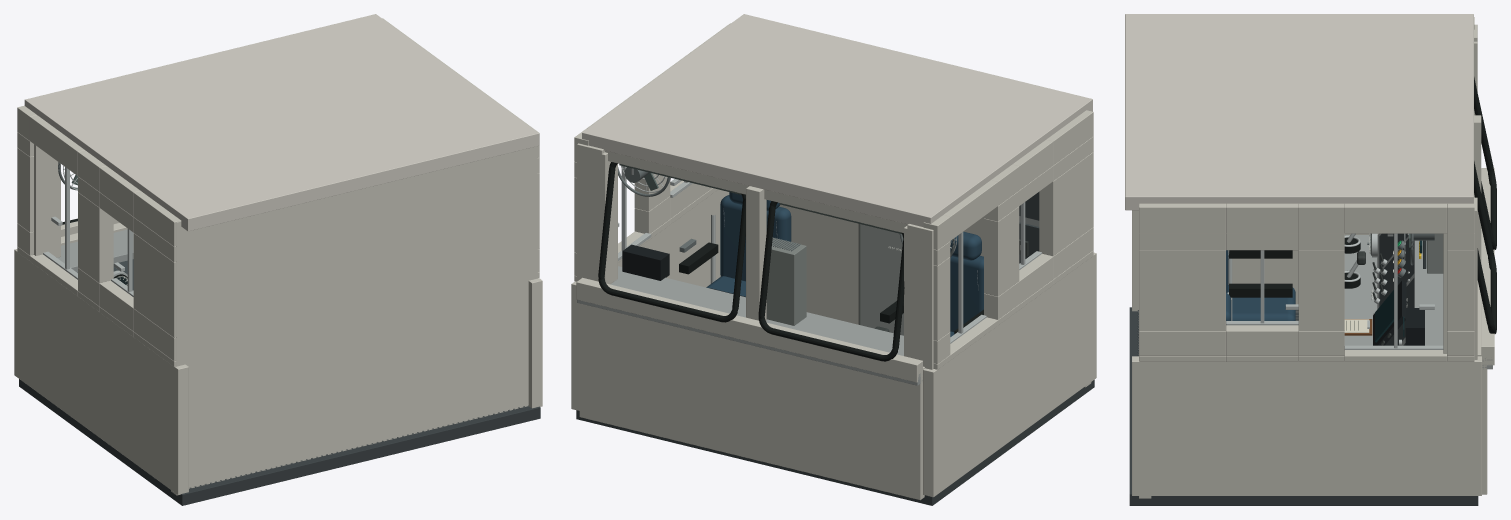
Rendered from wap7_cab.glb.
3 views of the same model, side by side, from view 1: azimuth 30°, elevation 25°; view 2: azimuth 150°, elevation 25°; view 3: azimuth 270°, elevation 25° (orthographic). The views are drawn at different scales.
Visible parts, largest first — view 1: Cab_lining_floor_and_bulkhead; view 2: Cab_lining_floor_and_bulkhead, Wraparound_driving_desk, Seats_pedals_fans_and_cab_equipment, Seat_1.0_Backrest, Seat_-0.68_Backrest, Driver_display_and_switchgear, Seat_-0.68_Headrest; view 3: Cab_lining_floor_and_bulkhead, Wraparound_driving_desk, Driver_display_and_switchgear, Seats_pedals_fans_and_cab_equipment, Seat_-0.68_Cushion.
Part boxes in pixels (x1,y1,x2,y2): Cab_lining_floor_and_bulkhead: [14, 14, 542, 505]; Cab_lining_floor_and_bulkhead: [571, 14, 1096, 505]; Wraparound_driving_desk: [766, 237, 806, 325]; Seats_pedals_fans_and_cab_equipment: [618, 165, 1039, 334]; Seat_1.0_Backrest: [720, 195, 791, 281]; Seat_-0.68_Backrest: [950, 255, 983, 331]; Driver_display_and_switchgear: [622, 244, 745, 297]; Seat_-0.68_Headrest: [950, 231, 981, 260]; Cab_lining_floor_and_bulkhead: [1125, 14, 1496, 505]; Wraparound_driving_desk: [1344, 233, 1443, 345]; Driver_display_and_switchgear: [1344, 240, 1424, 345]; Seats_pedals_fans_and_cab_equipment: [1227, 233, 1434, 320]; Seat_-0.68_Cushion: [1228, 285, 1295, 320].
Bounding box in the file's own units: 3.04 × 2.28 × 2.51.
